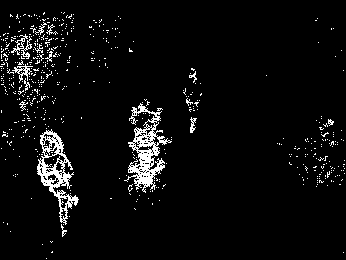person: (35, 130, 79, 238), (181, 66, 203, 136)
